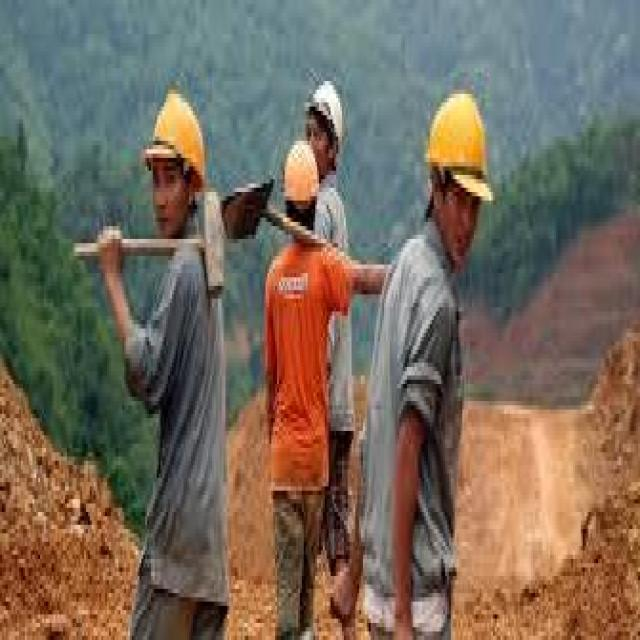Safety-Helmet: (417, 73, 502, 214), (139, 77, 216, 200), (298, 68, 352, 162), (275, 128, 325, 218)
